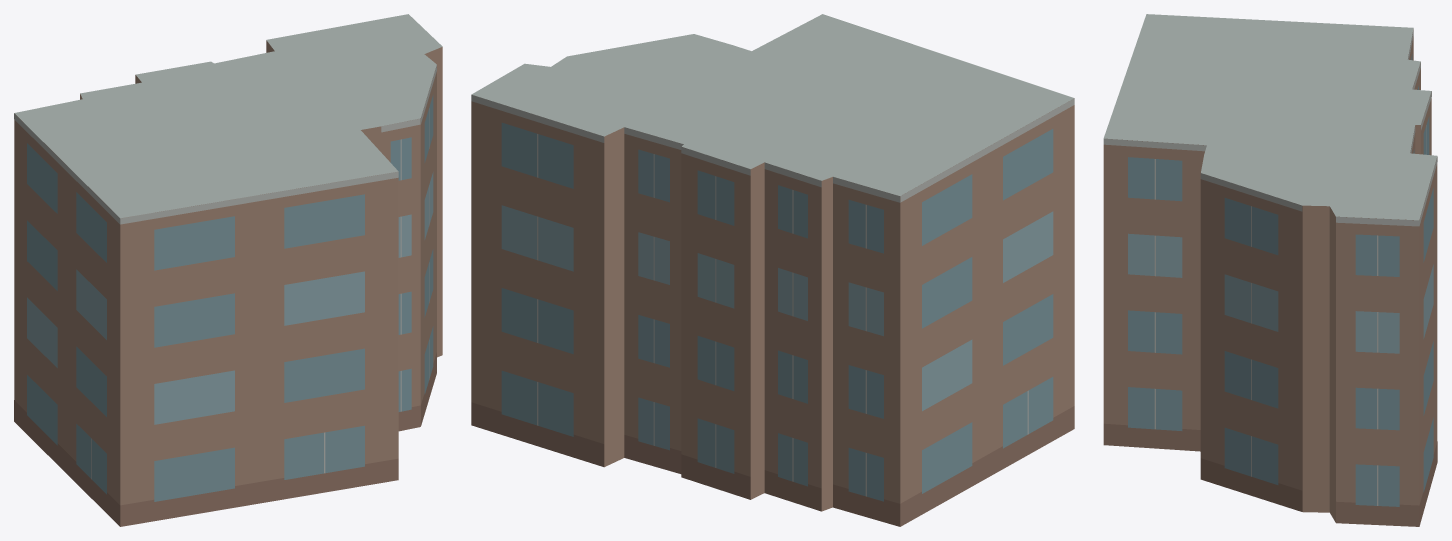
Rendered from survey-upis-32637966.glb.
3 views of the same model, side by side, from view 1: azimuth 30°, elevation 25°; view 2: azimuth 150°, elevation 25°; view 3: azimuth 270°, elevation 25° (orthographic). The views are drawn at different scales.
Visible parts, largest first — view 1: survey-upis-32637966.tmp; view 2: survey-upis-32637966.tmp; view 3: survey-upis-32637966.tmp.
Part boxes in pixels (x1,y1,x2,y2): survey-upis-32637966.tmp: (14, 14, 442, 526); survey-upis-32637966.tmp: (471, 14, 1074, 526); survey-upis-32637966.tmp: (1103, 14, 1437, 526).
Size of the model in its own units: 17.62 by 12.2 by 12.06.
